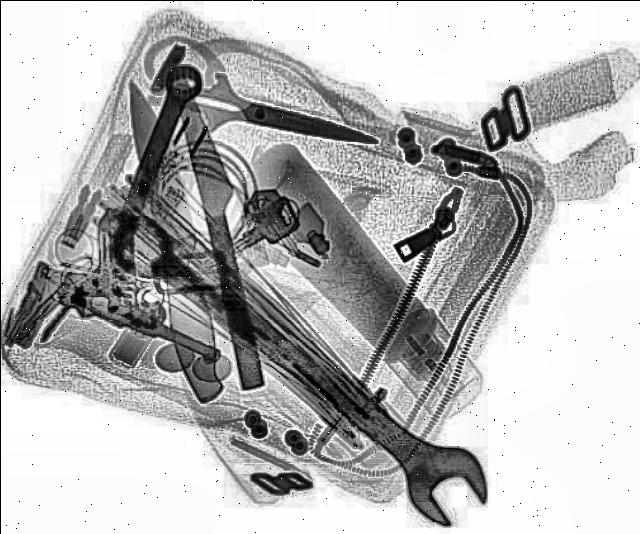Gun: (34, 200, 274, 372)
Knife: (110, 75, 230, 402), (164, 62, 278, 388), (170, 65, 384, 169)
Wrench: (82, 198, 510, 532), (62, 59, 210, 323)
